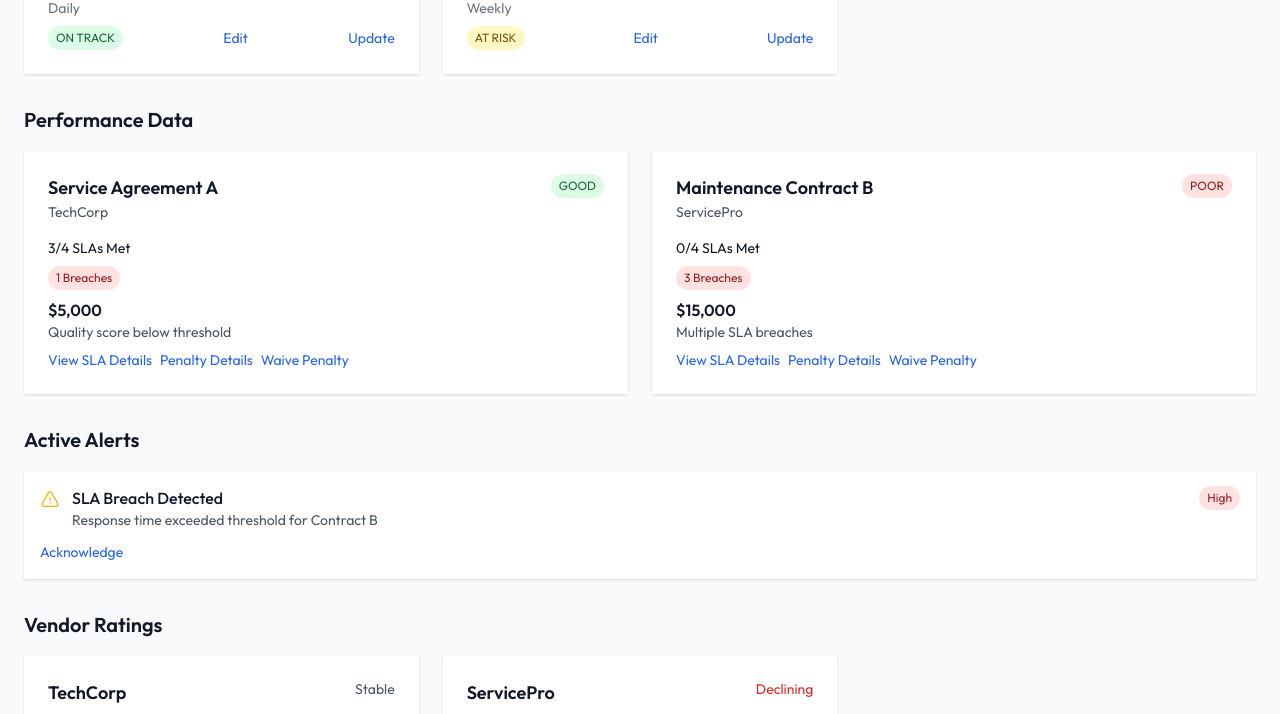
Scenario: PerformanceTracking › Penalty Calculations › should show penalty calculation details
This screenshot has width=1280, height=714.
(page scrolled)
Click the button "Penalty Details" below "Quality score below threshold".
click(206, 360)  # box [160,350,253,370]
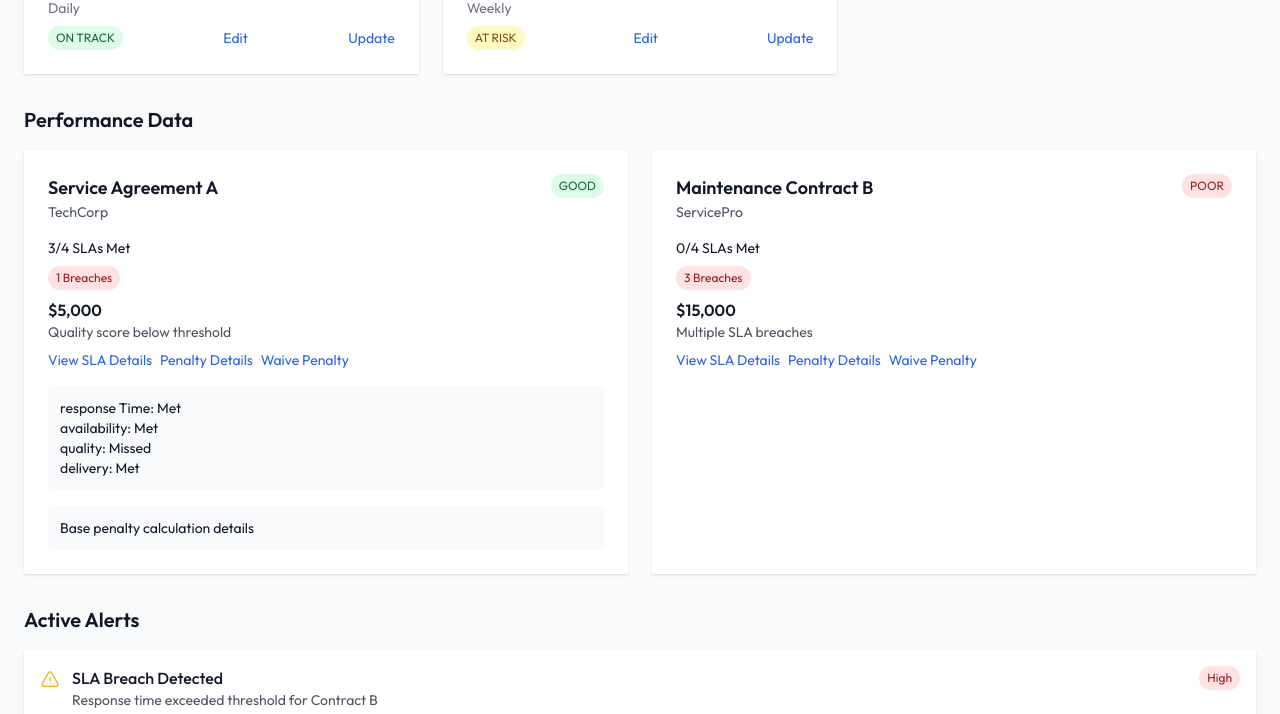
Now the element with test id "penalty-calculation" is shown, box [48,506,604,550]
Now the text "Base penalty calculation details" is shown, box [60,519,254,537]
